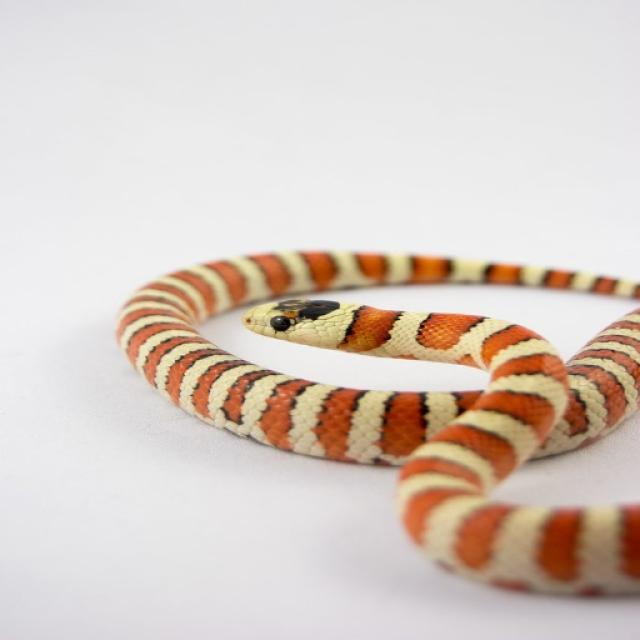snake: (100, 187, 640, 600)
